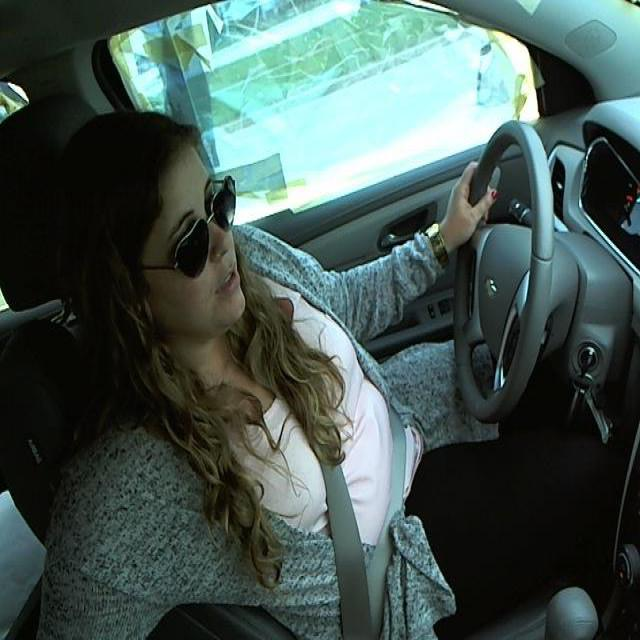seatbelt: (269, 376, 431, 627)
